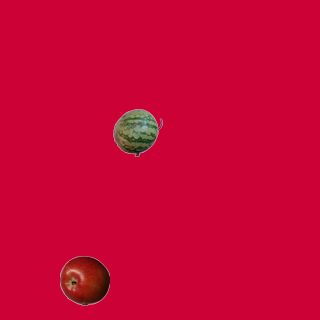Apple Braeburn: (59, 255, 109, 305)
Watermelon: (112, 107, 162, 157)
